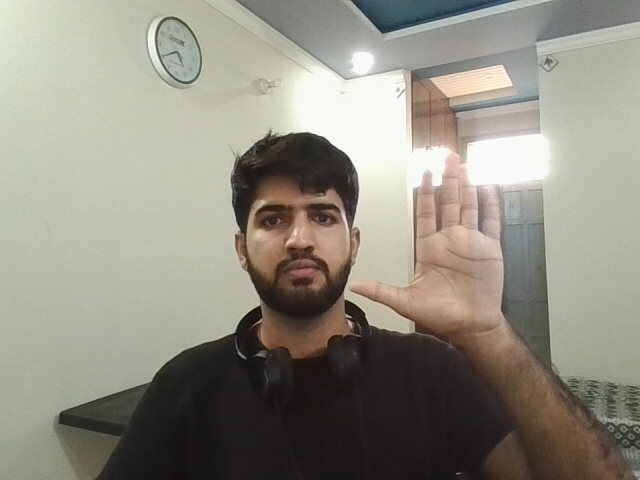Hello: (348, 137, 530, 347)
